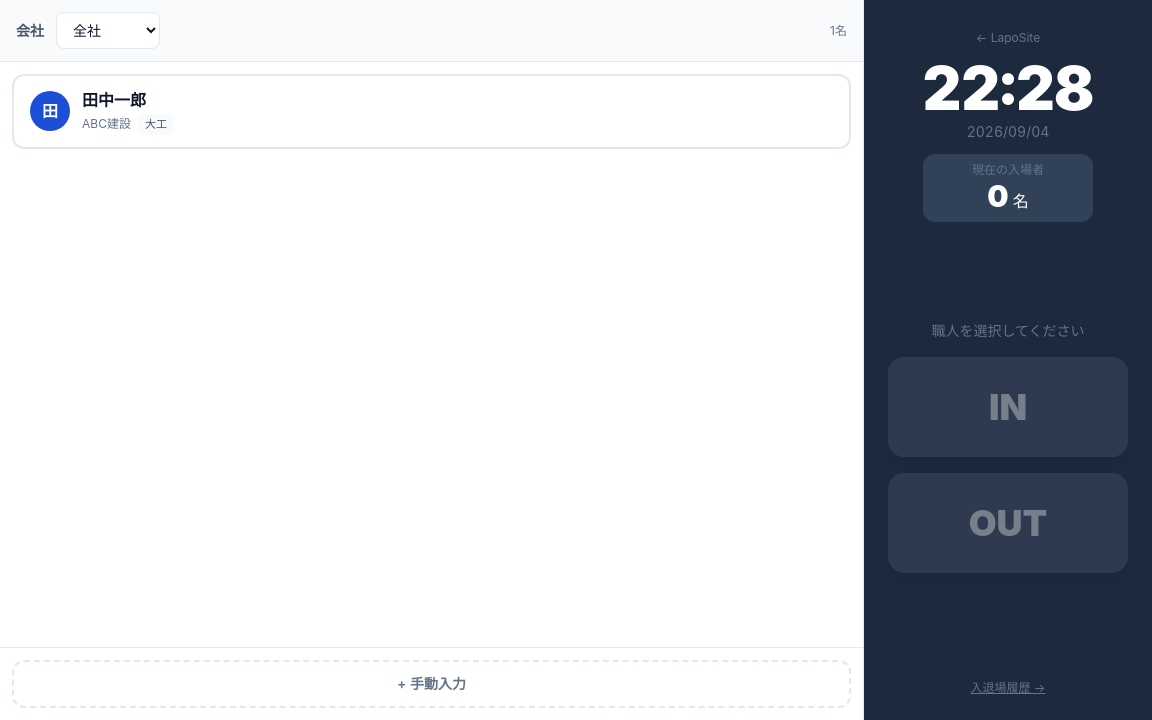
Test case: SiteEntryPage › clicking IN opens start-photo modal
Click the text "田中一郎" at (114, 100), box [82,90,146,110]
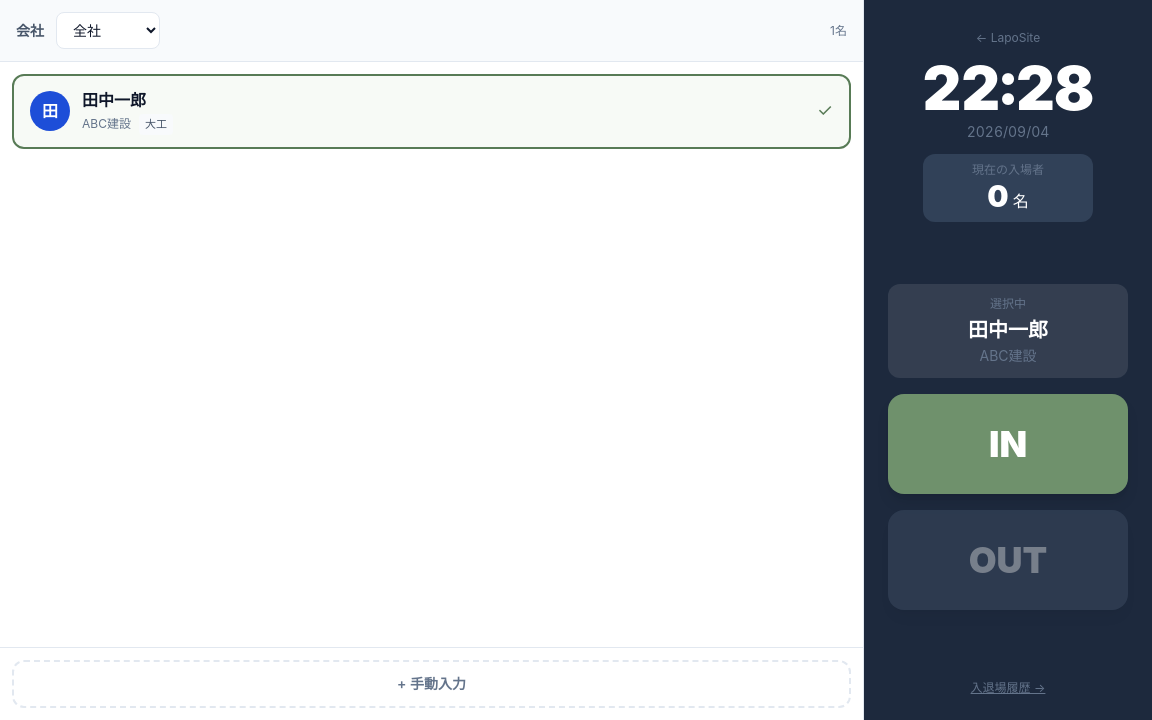
Click the button "IN" at (1008, 444), box [888,394,1128,494]
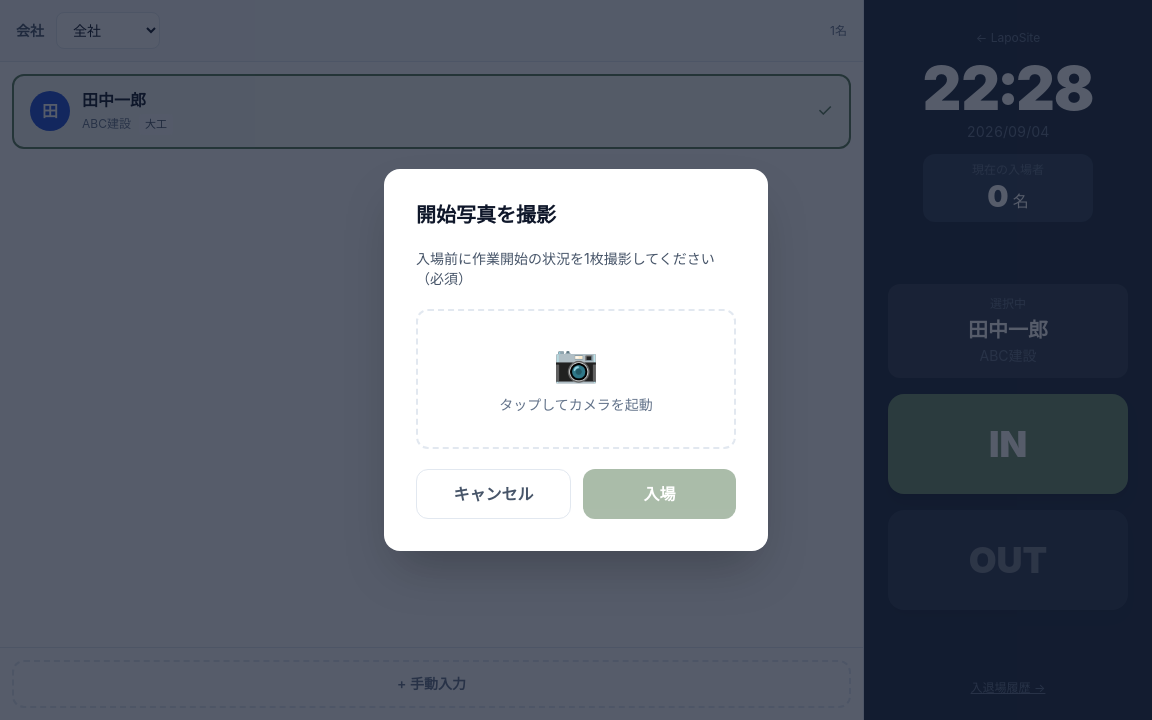
Check: the heading "開始写真を撮影" is shown, box [416,203,556,227]
